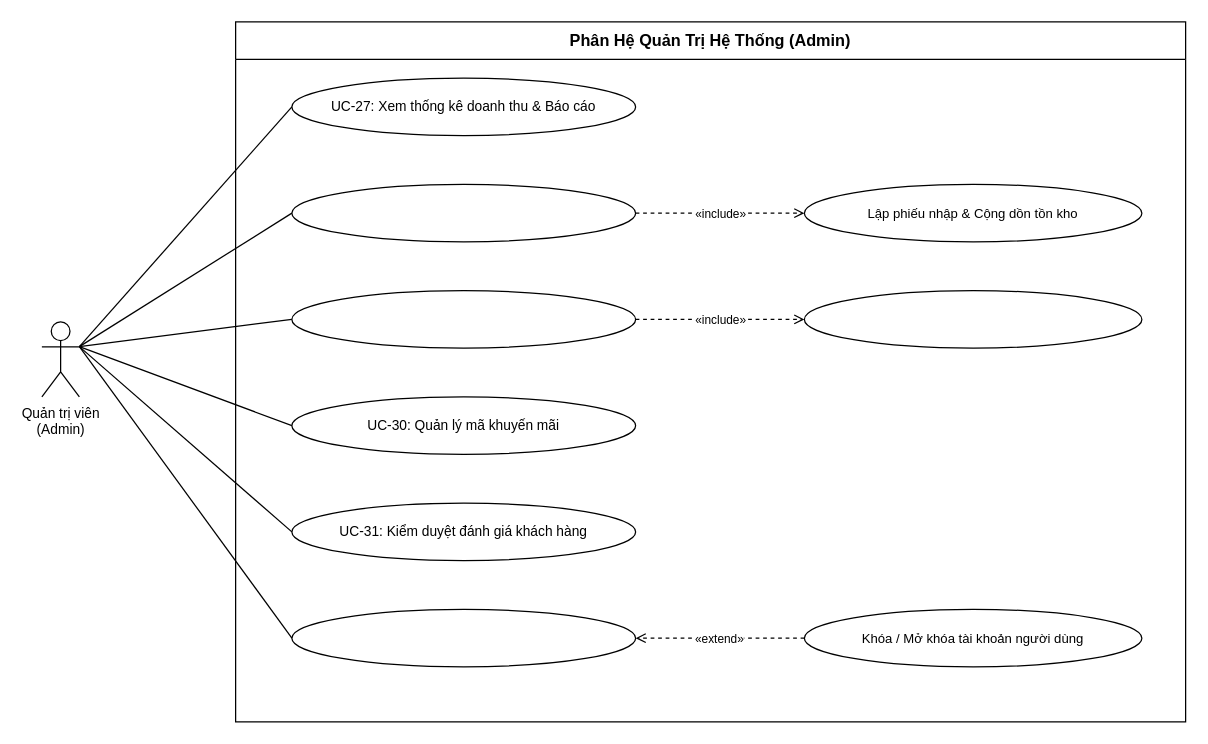
Some shapes in this 1208 by 744 pixel diagram are drawn without their labels. The shapes that lost their labels are listed below. From the top down, each one's centre as x and y in pixels, then its label:
At [463,212]: "UC-28: Quản lý kho & Nhập hàng".
At [463,318]: "UC-29: Quản lý sản phẩm & Công thức".
At [972,318]: "Cấu hình Size & Định lượng công thức".
At [463,637]: "UC-32: Quản lý nhân sự & Khách hàng".
